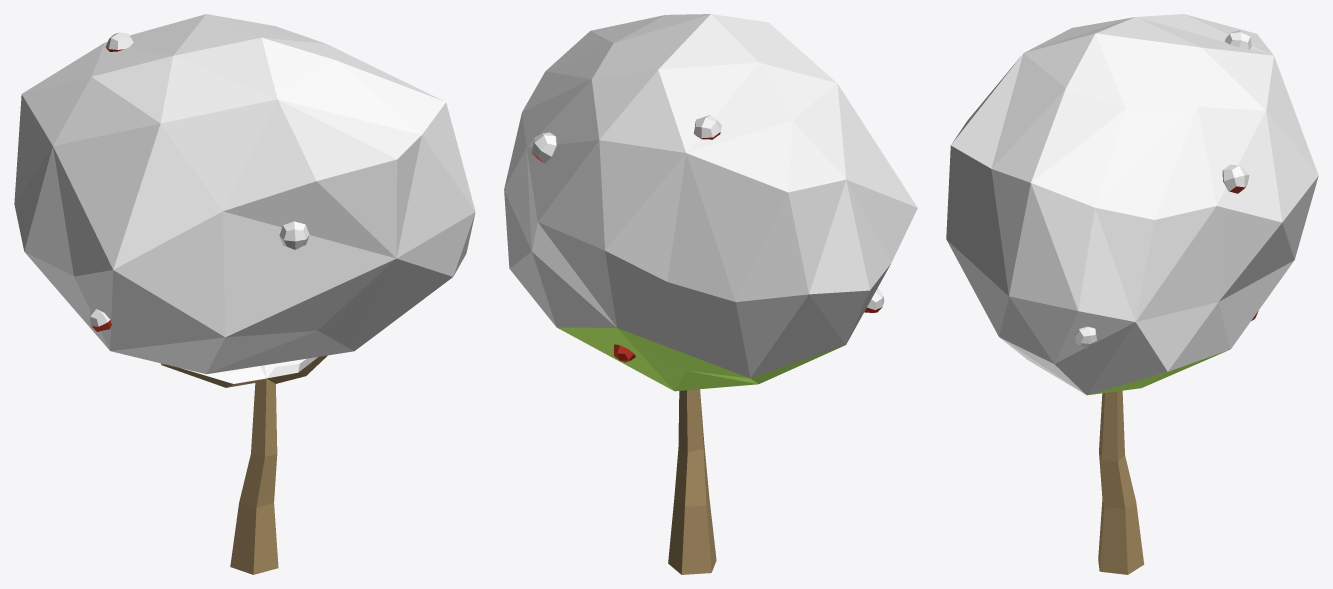
The model's file is Apple_Tree_Apples_m_Snow_BT_02.fbx.
3 views of the same model, side by side, from view 1: azimuth 30°, elevation 25°; view 2: azimuth 150°, elevation 25°; view 3: azimuth 270°, elevation 25° (orthographic). The views are drawn at different scales.
Visible parts, largest first — view 1: Apple_Tree_Apples_m_Snow_BT_02; view 2: Apple_Tree_Apples_m_Snow_BT_02; view 3: Apple_Tree_Apples_m_Snow_BT_02.
Boxes of the visible parts, bbox=[...] form: Apple_Tree_Apples_m_Snow_BT_02: bbox=[14, 14, 475, 574]; Apple_Tree_Apples_m_Snow_BT_02: bbox=[504, 14, 917, 574]; Apple_Tree_Apples_m_Snow_BT_02: bbox=[946, 14, 1318, 574].
Size of the model in its own units: 515 by 667 by 426.
